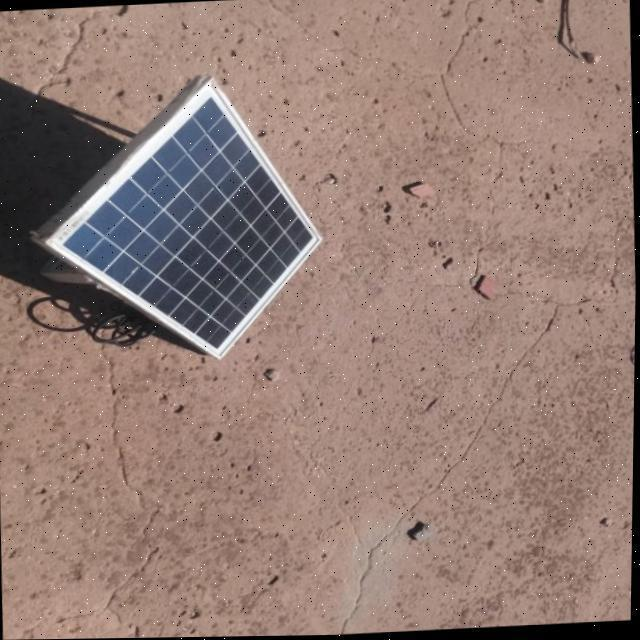Normal Solar Panel: (37, 73, 326, 366)
